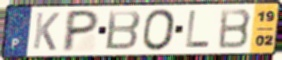B: (103, 9, 143, 52), (216, 8, 253, 50)
K: (31, 11, 62, 52)
L: (184, 10, 212, 49)
O: (141, 8, 177, 53)
P: (59, 8, 102, 53)
